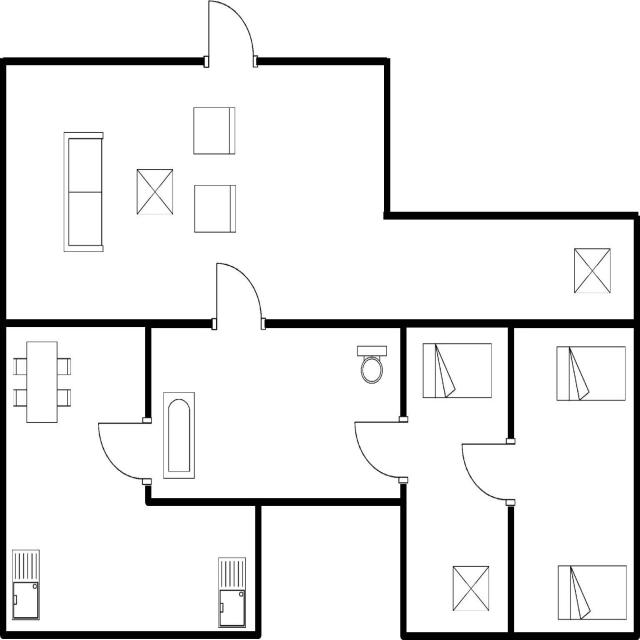bed: (419, 337, 496, 402), (552, 341, 629, 405), (554, 561, 629, 624)
coffee_table: (569, 242, 615, 298), (446, 562, 492, 614), (132, 165, 176, 217)
dining_table: (11, 336, 75, 428)
large_sink: (354, 341, 389, 387)
large_sofa: (59, 125, 108, 257)
sink: (8, 544, 45, 626), (213, 552, 250, 629)
small_sofa: (190, 179, 240, 239), (189, 104, 240, 157)
tub: (159, 388, 198, 482)
